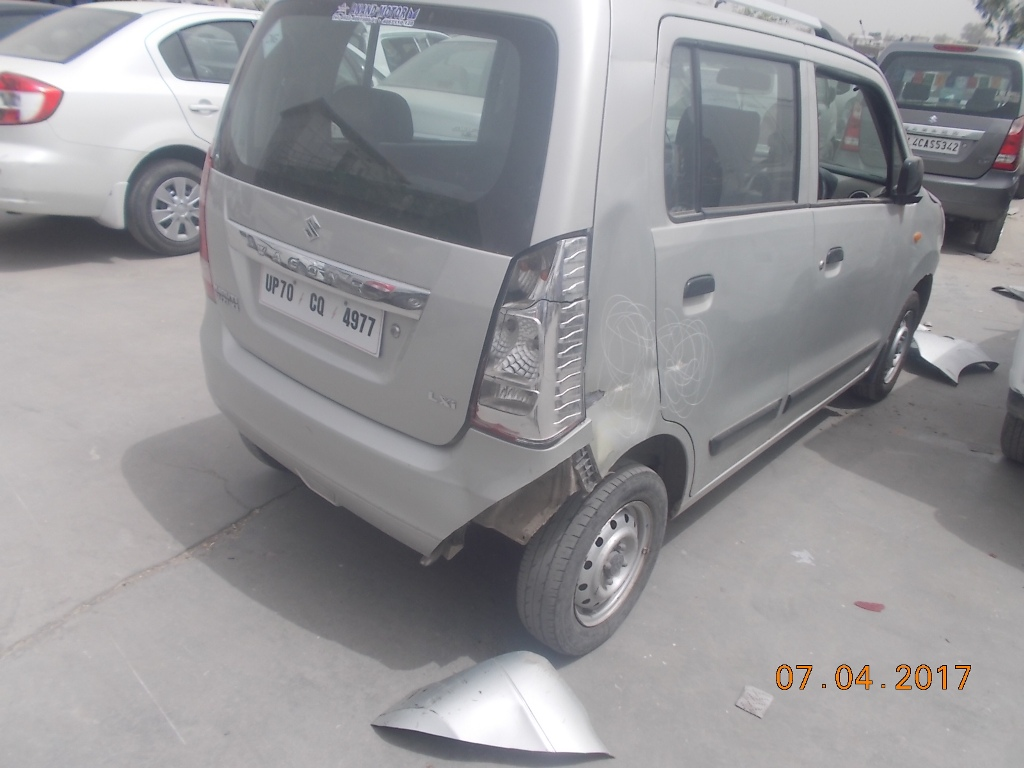Dent: (591, 372, 654, 427)
